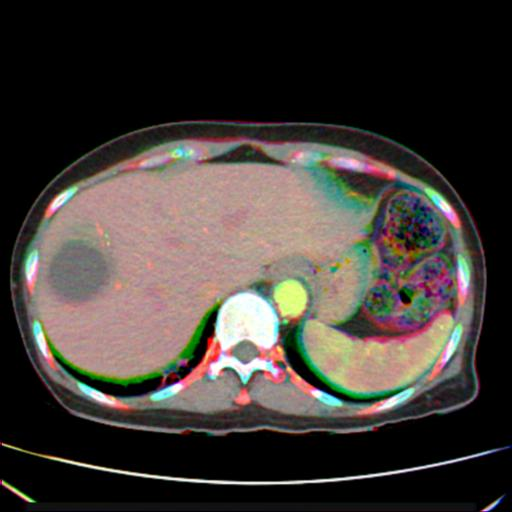Abscess: (50, 239, 109, 302)
